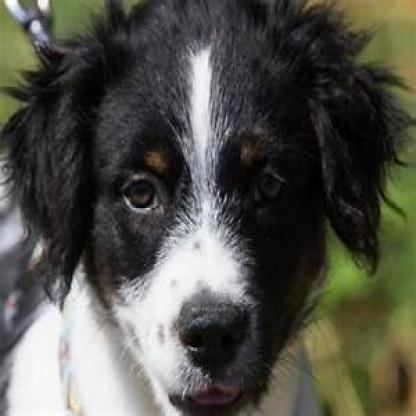dog: (0, 0, 394, 414)
